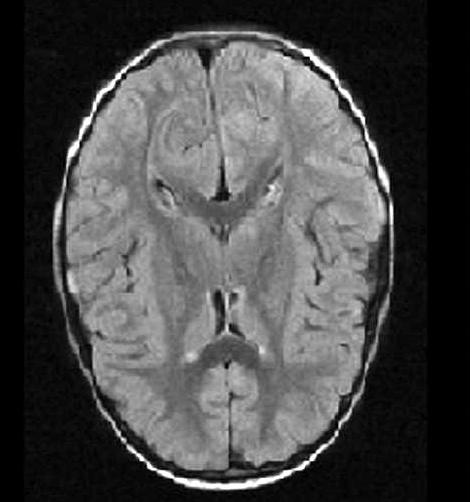Normal_Brain: (1, 1, 429, 502)
